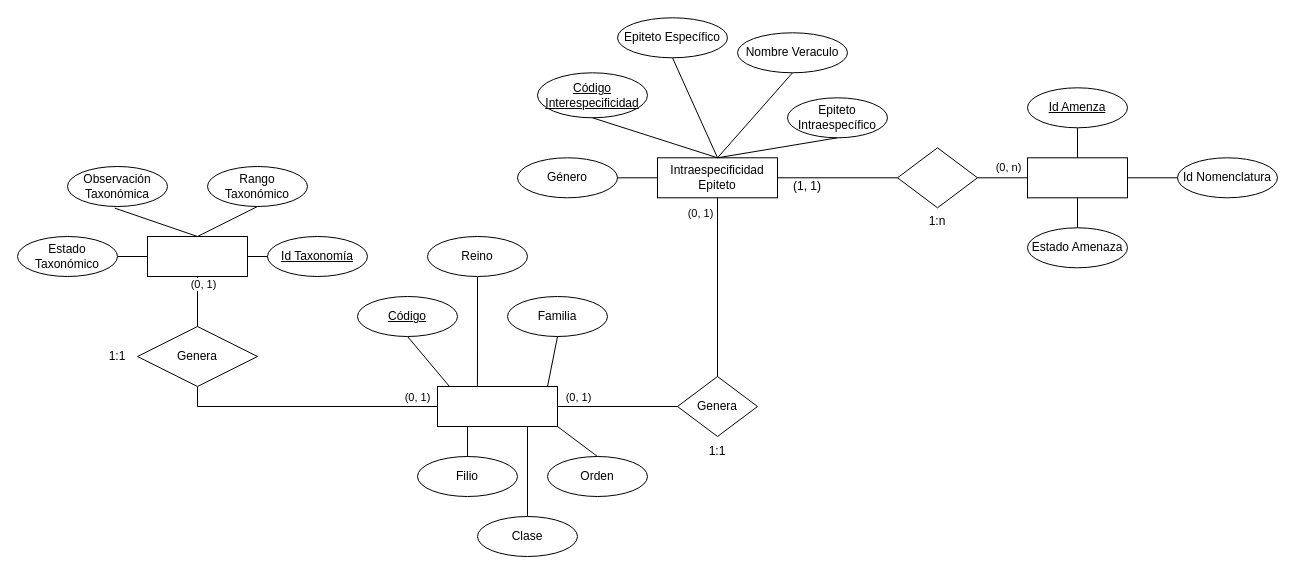
Some shapes in this 1295 by 574 pixel diagram are drawn without their labels. Here are the shapes that lost their labels. From the top down, the centre of each, then its label:
[937,177]: Pertenece a
[1077,177]: Especies Amenazadas
[197,256]: Información Taxonómica
[497,406]: Clasificación Superior
